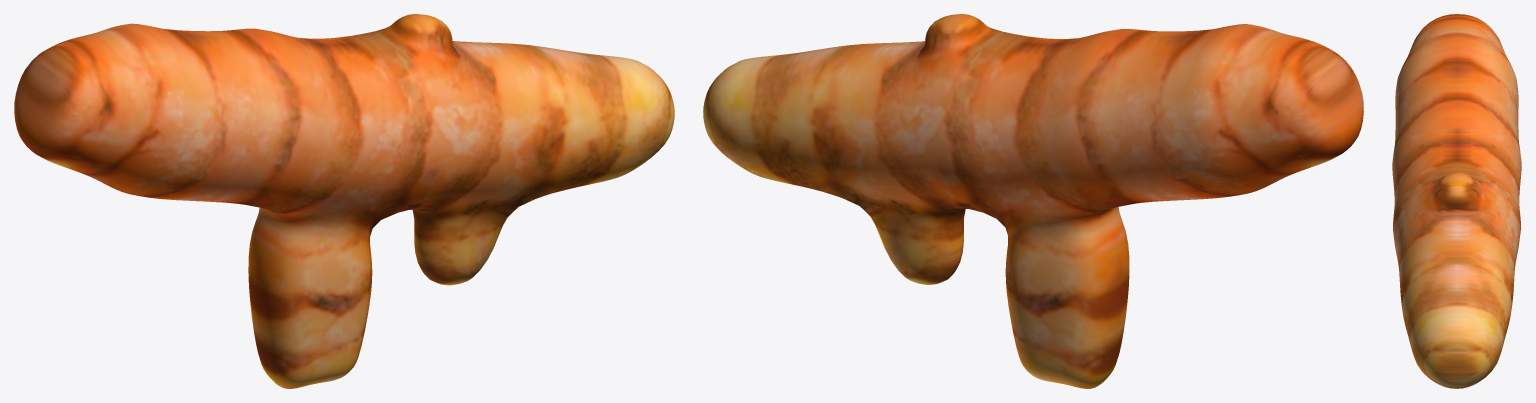
File: kunyit.glb
3 renders of one model, left to right at view 1: azimuth 30°, elevation 25°; view 2: azimuth 150°, elevation 25°; view 3: azimuth 270°, elevation 25°, orthographic. The views are drawn at different scales.
Parts seen in each view (by area): view 1: Cylinder; view 2: Cylinder; view 3: Cylinder.
Boxes of the visible parts, x1,y1,x2,y2 form: Cylinder: [14, 14, 674, 388]; Cylinder: [703, 14, 1363, 388]; Cylinder: [1392, 14, 1521, 388].
Bounding box in the file's own units: 0.285 × 0.1676 × 0.0694.
Materials: 1 (1 with a texture image).
